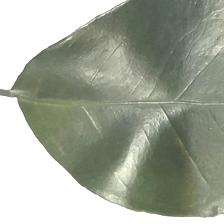healthy: (25, 15, 224, 185)
